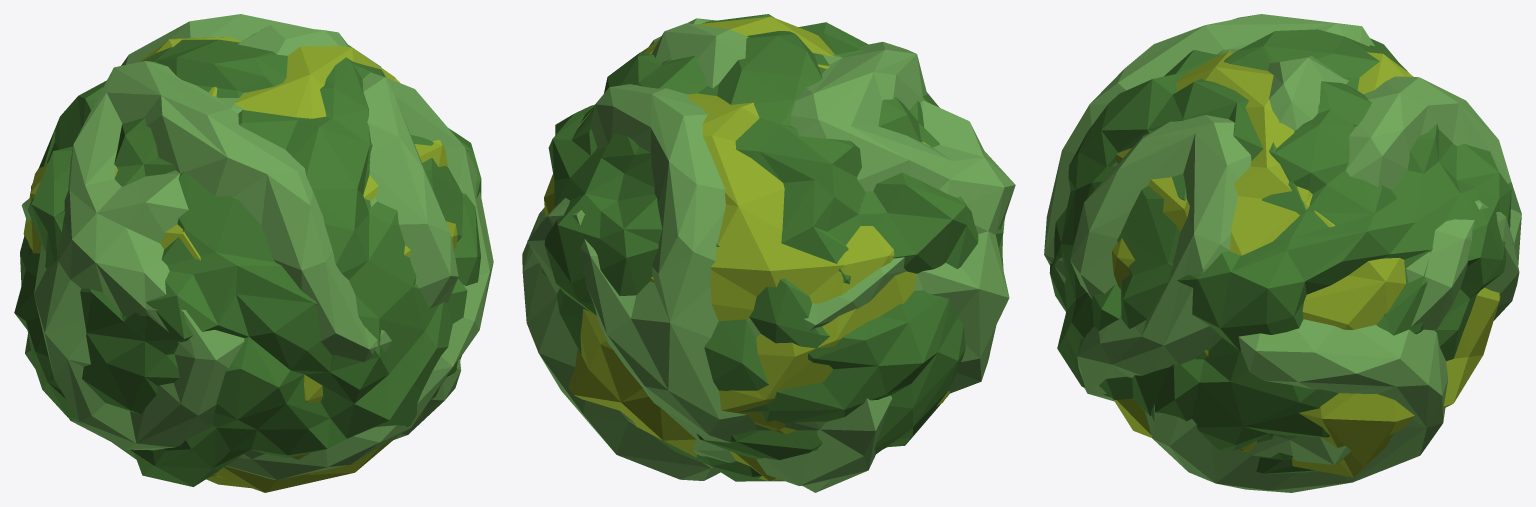
Rendered from gas_planet.fbx.
The picture shows the model from 3 angles, left to right: view 1: azimuth 30°, elevation 25°; view 2: azimuth 150°, elevation 25°; view 3: azimuth 270°, elevation 25°; orthographic projection. The views are drawn at different scales.
Visible parts, largest first — view 1: gas_planet; view 2: gas_planet; view 3: gas_planet.
Part boxes in pixels (x1=…): gas_planet: x1=14, y1=14, x2=493, y2=492; gas_planet: x1=522, y1=14, x2=1015, y2=492; gas_planet: x1=1044, y1=14, x2=1521, y2=492.
Bounding box in the file's own units: 235 × 221 × 225.
